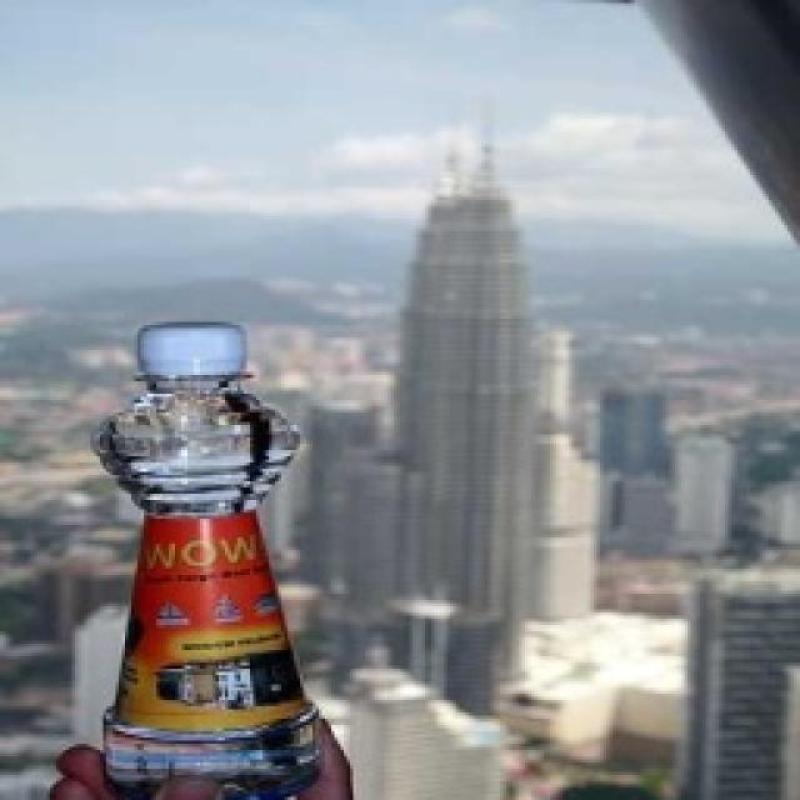botella: (92, 325, 323, 800)
